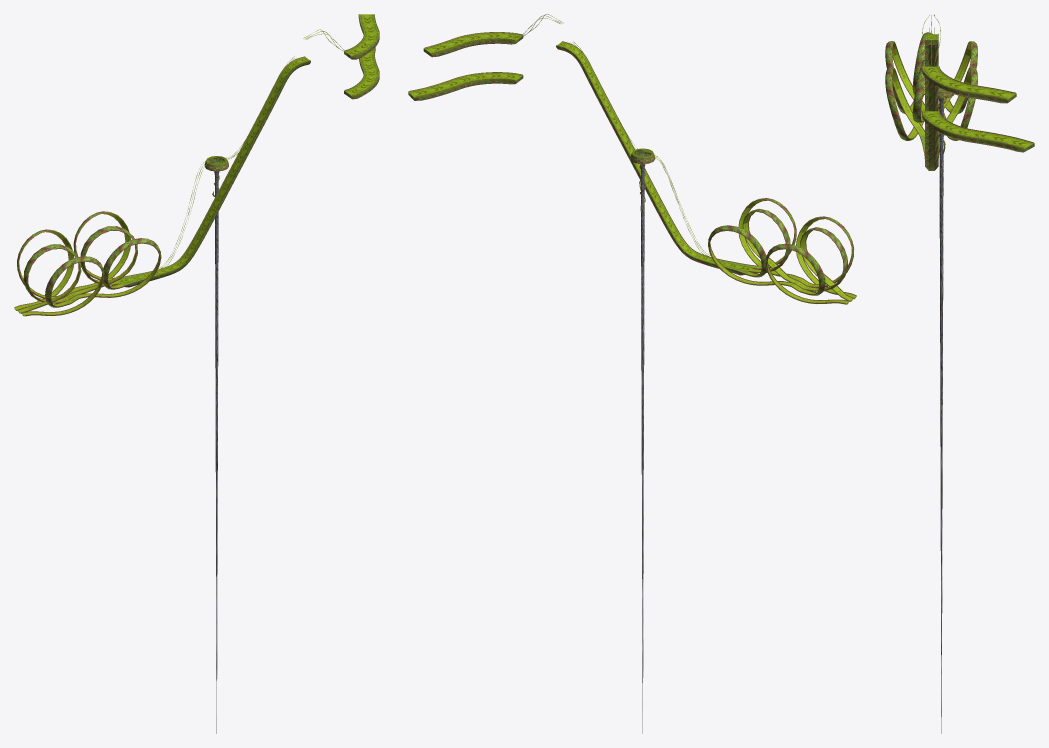
File: Frog Forest 11.fbx
3 renders of one model, left to right at view 1: azimuth 30°, elevation 25°; view 2: azimuth 150°, elevation 25°; view 3: azimuth 270°, elevation 25°, orthographic. The views are drawn at different scales.
Parts seen in each view (by area): view 1: Object_2.017, Object_2.016; view 2: Object_2.017, Object_2.016; view 3: Object_2.017, Object_2.016.
Part boxes in pixels (bbox=[...]): Object_2.017: bbox=[14, 14, 379, 733]; Object_2.016: bbox=[15, 14, 378, 315]; Object_2.017: bbox=[408, 14, 856, 733]; Object_2.016: bbox=[409, 32, 855, 303]; Object_2.017: bbox=[885, 14, 1034, 733]; Object_2.016: bbox=[892, 34, 1032, 149].
Bounding box in the file's own units: 419476 × 688481 × 121067.
